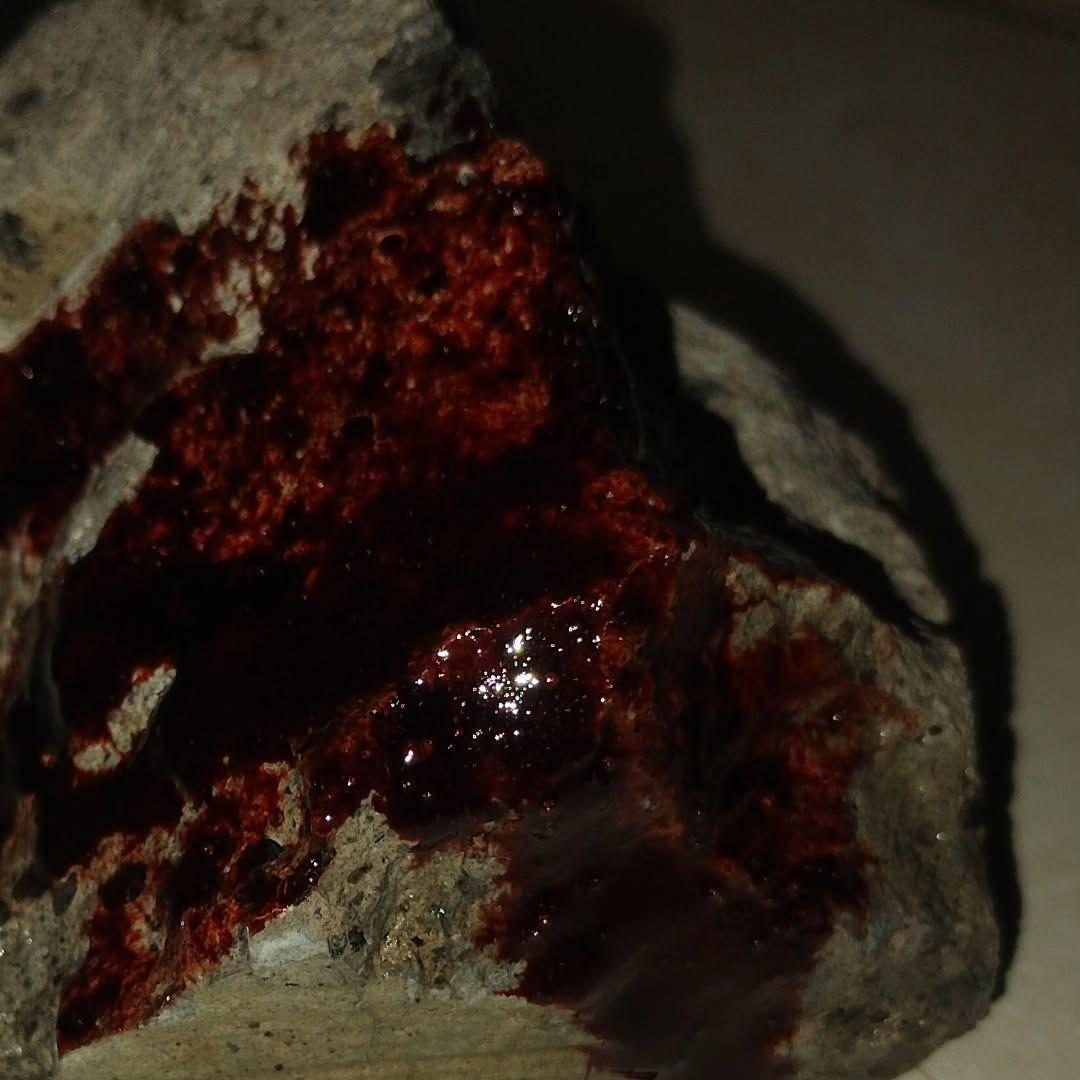blood_27.png: (6, 114, 925, 1072)
